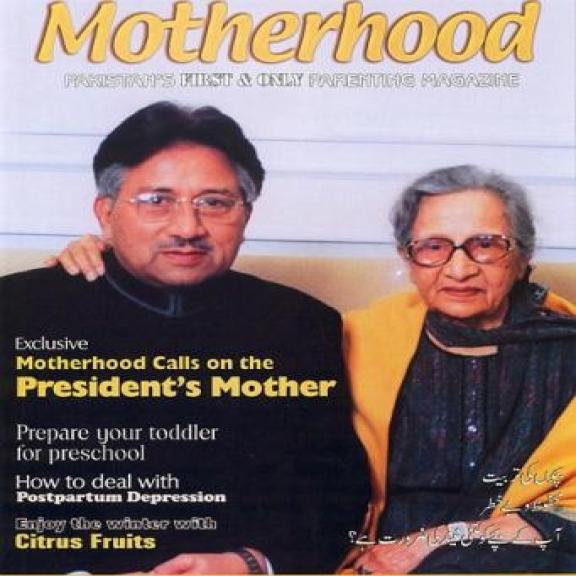face: (86, 164, 254, 286), (400, 203, 534, 324)
